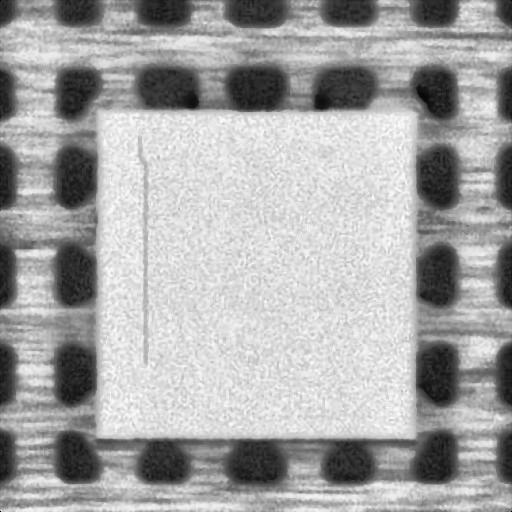DIE_CRACK: (137, 134, 150, 365)
